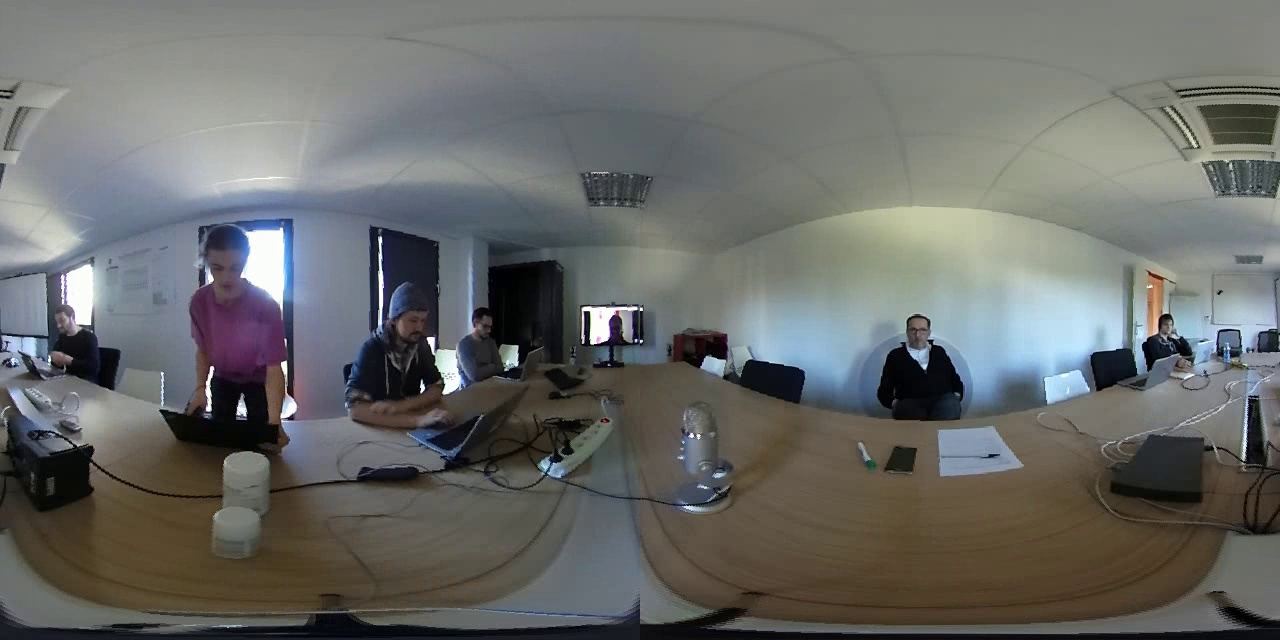person: (167, 207, 289, 437), (346, 268, 446, 425), (874, 306, 964, 421), (447, 303, 517, 380), (41, 295, 98, 373), (1144, 307, 1194, 355), (580, 307, 643, 341)
